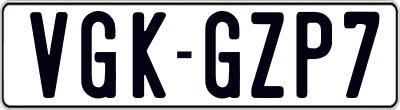7: (341, 12, 378, 101)
G: (80, 10, 121, 100), (205, 11, 242, 104)
K: (131, 9, 169, 98)
P: (296, 9, 334, 98)
V: (28, 12, 71, 98)
Z: (249, 11, 286, 102)
